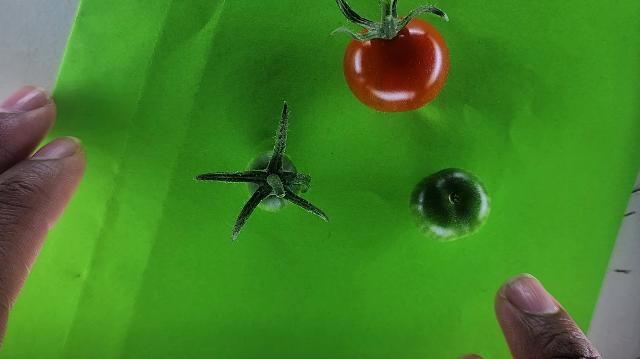Fruit Maturation: (408, 166, 492, 243), (245, 149, 303, 211)
Fully Grown: (342, 15, 451, 114)
